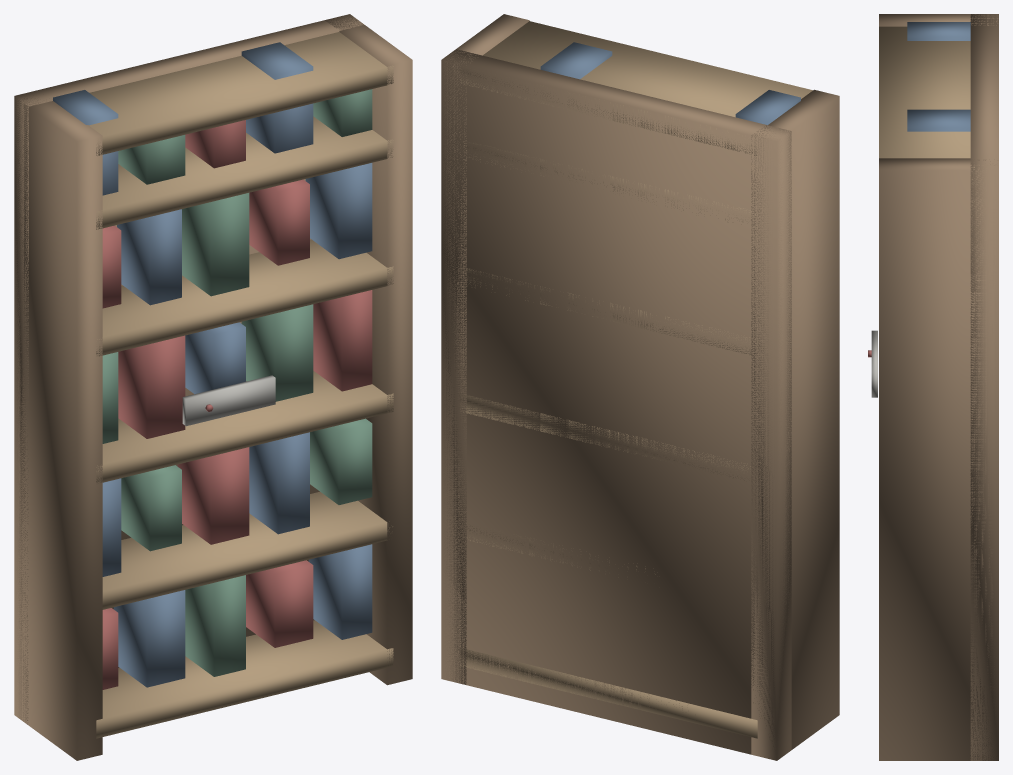
Rendered from bookcase_bay.glb.
The picture shows the model from 3 angles, left to right: view 1: azimuth 30°, elevation 25°; view 2: azimuth 150°, elevation 25°; view 3: azimuth 270°, elevation 25°; orthographic projection. The views are drawn at different scales.
Parts seen in each view (by area): view 1: world; view 2: world; view 3: world.
Part boxes in pixels (bbox=[...]): world: bbox=[14, 14, 412, 760]; world: bbox=[441, 14, 839, 760]; world: bbox=[868, 14, 998, 760].
Size of the model in its own units: 1.05 by 1.86 by 0.371.
